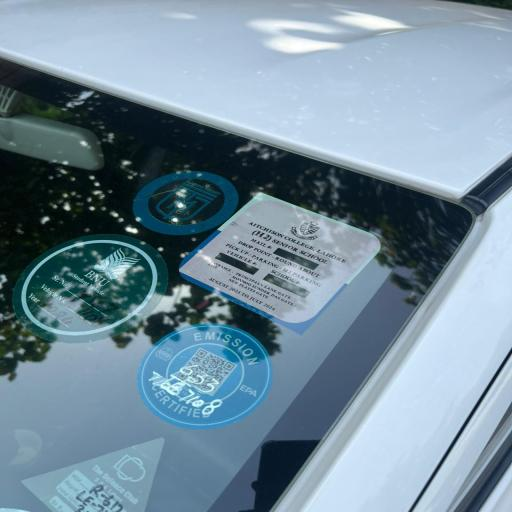bnu_sticker: (12, 228, 162, 350)
